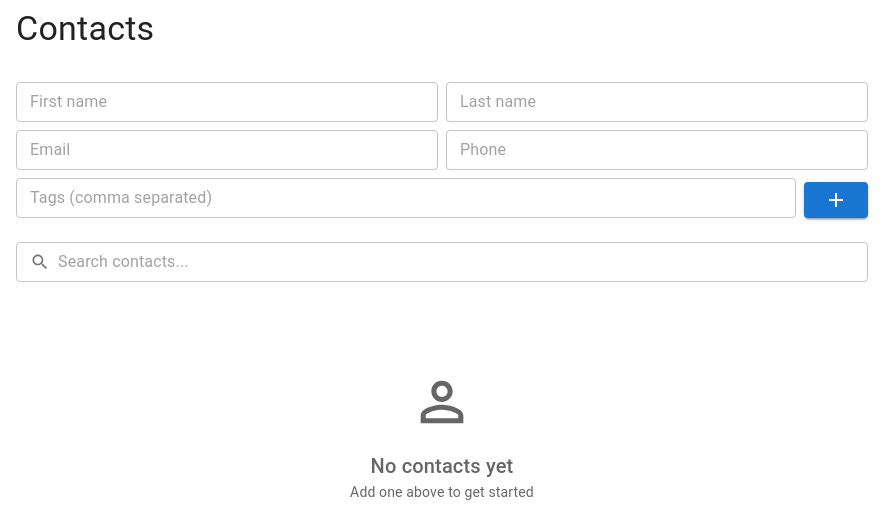
Test: ContactsPage integration › should remove a contact from the list when deleted
The image size is (886, 517).
Check: the heading "No contacts yet" is shown, box x1=371 y1=450 x2=513 y2=482
Step 1. Type "Ada" into the field with placeholder "First name" → [227, 102], box x1=16 y1=82 x2=438 y2=122
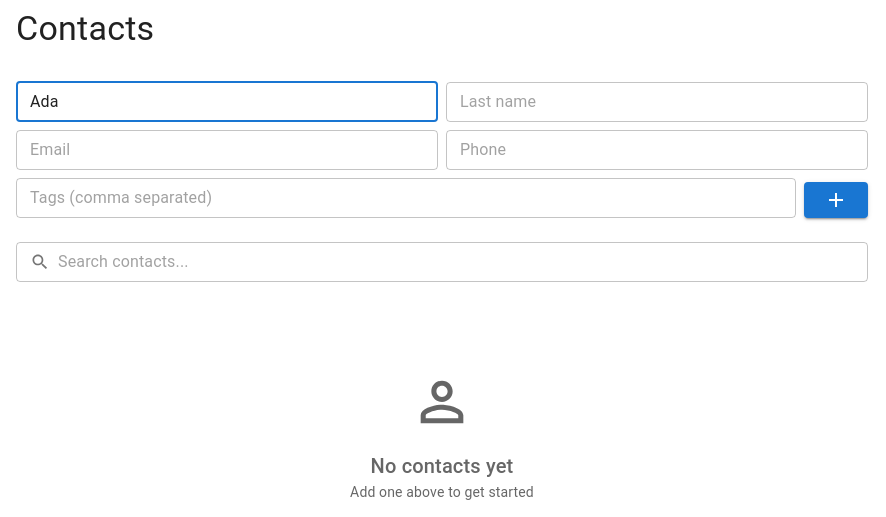
Step 2. Type "Lovelace" into the field with placeholder "Last name" → [657, 102], box x1=446 y1=82 x2=868 y2=122
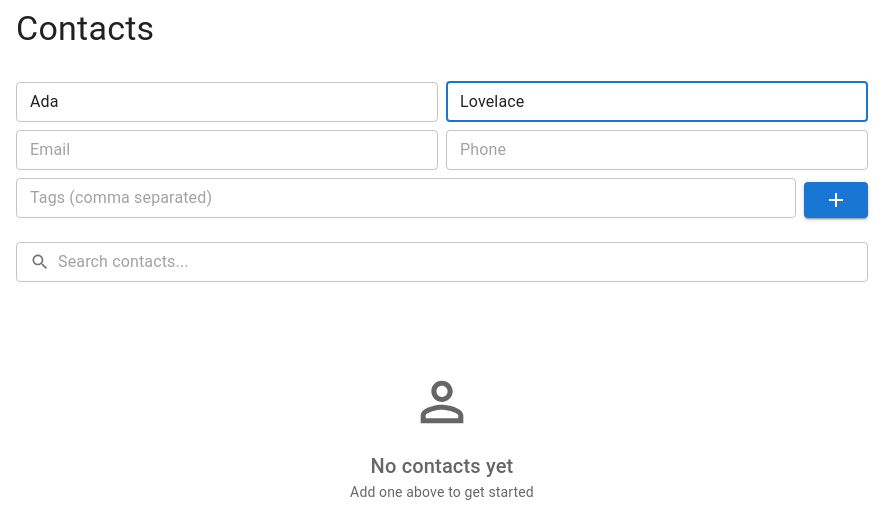
Step 3. Type "ada@example.com" into the field with placeholder "Email" → [227, 150], box x1=16 y1=130 x2=438 y2=170
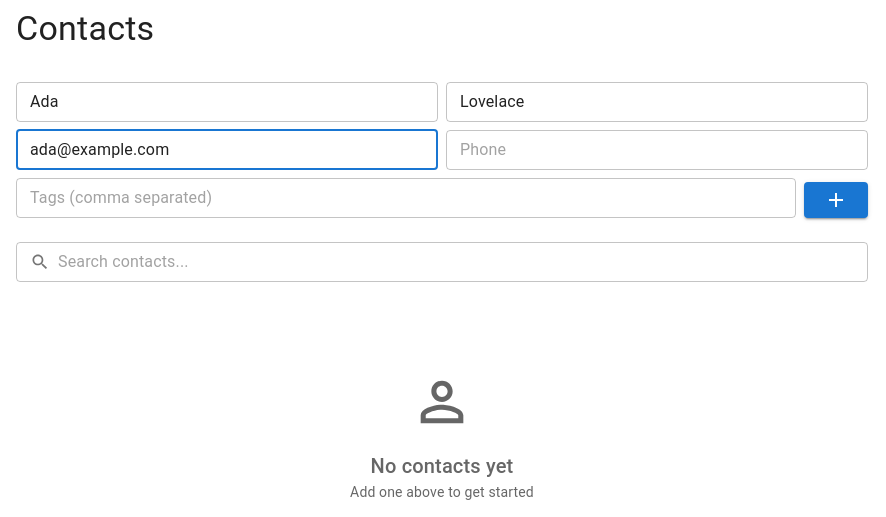
Step 4. Click the button named "Add contact" → [836, 200], box x1=804 y1=182 x2=868 y2=218
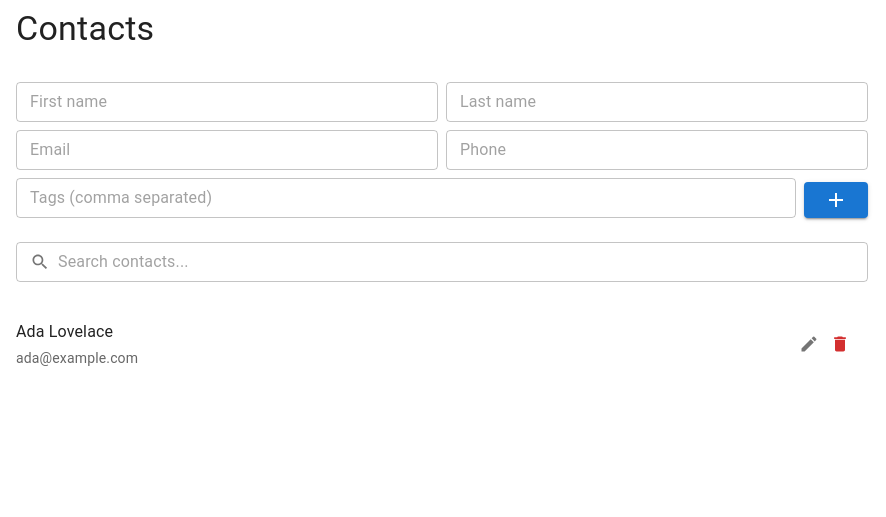
Check: the text "Ada Lovelace" is shown, box x1=16 y1=322 x2=113 y2=341
Step 5. Click the button named "Delete contact" → [840, 344], box x1=825 y1=329 x2=855 y2=359
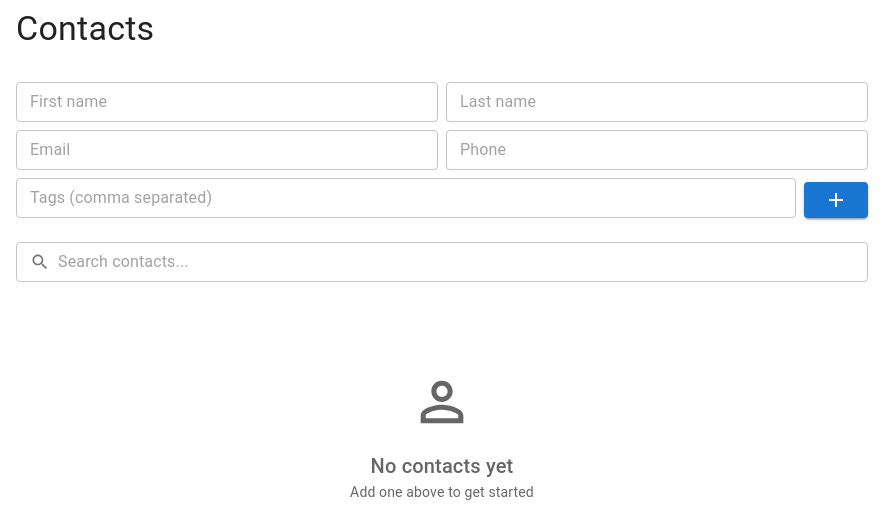
Check: the text "Ada Lovelace" is gone
Check: the heading "No contacts yet" is shown, box x1=371 y1=450 x2=513 y2=482
